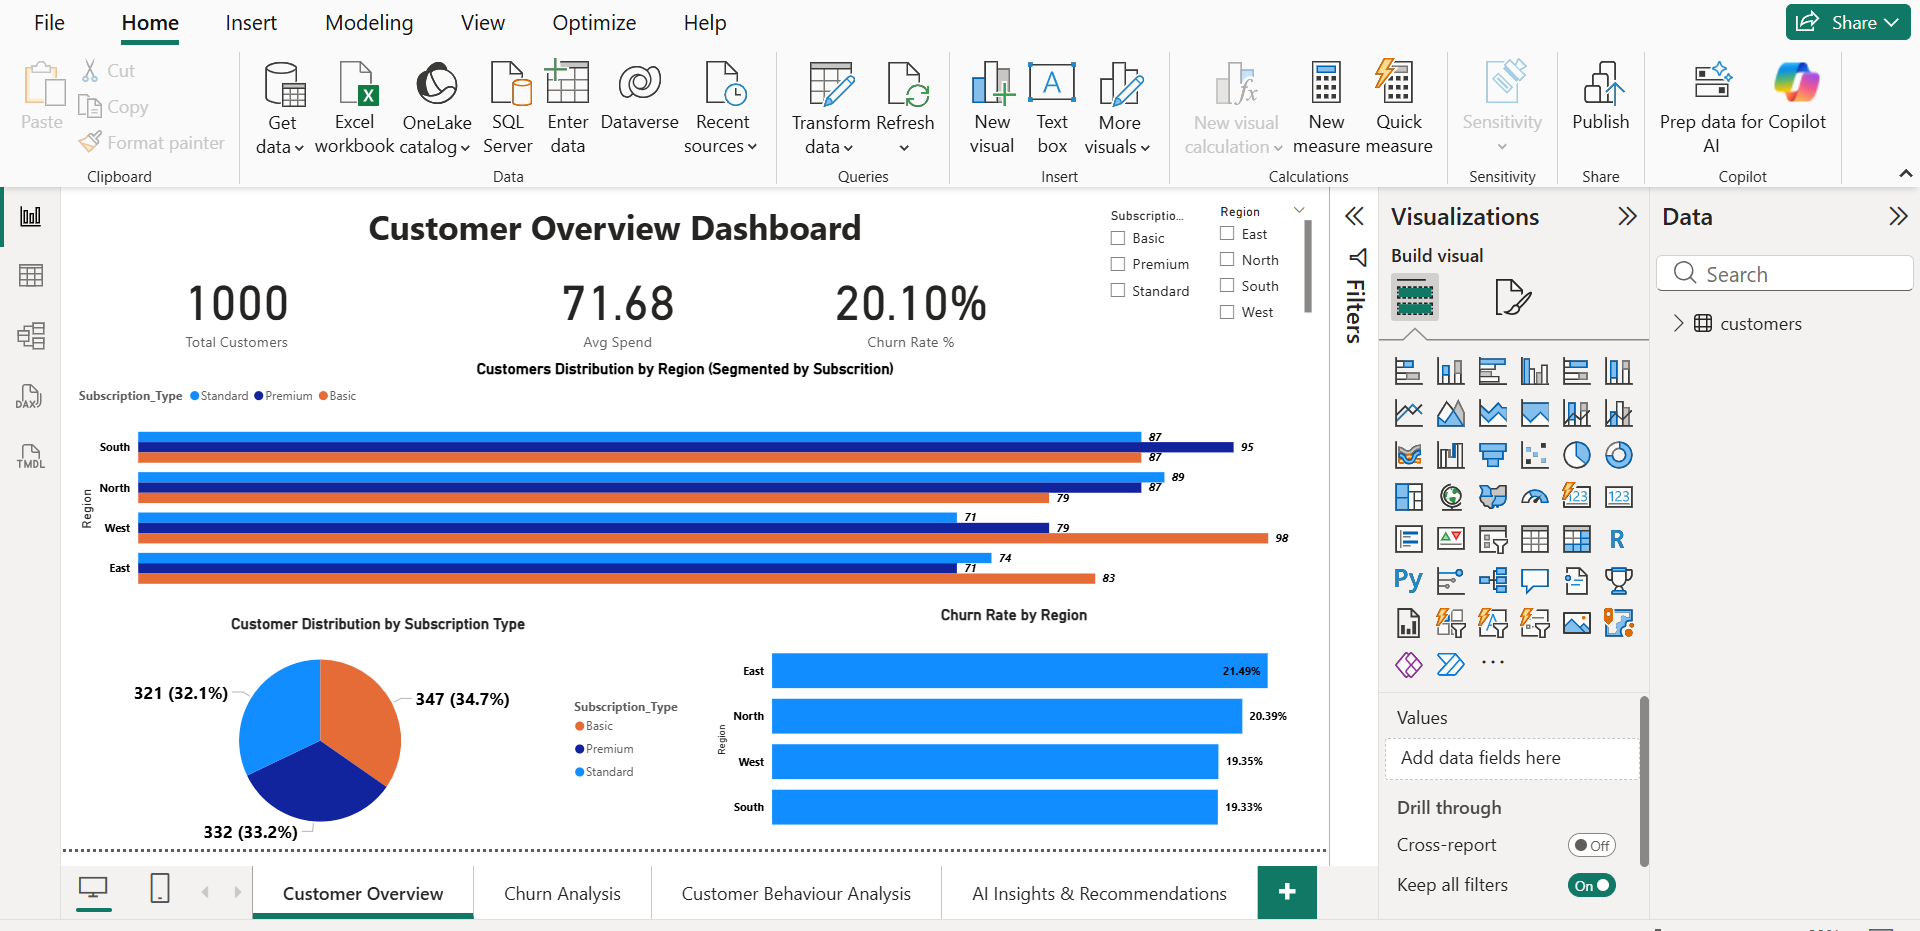

Layout of this report page (visuals, bound fields, positions):
{"tool":"powerbi","page":{"name":"Customer Overview","canvas":[1400,731],"ordinal":0},"visuals":[{"type":"card","fields":{"Values":["customers.Total Customers"]},"box":[82.8,72.9,221.9,117.6],"z":0},{"type":"card","fields":{"Values":["customers.Churn Rate %"]},"box":[838,72.9,200.4,117.6],"z":1000},{"type":"card","fields":{"Values":["customers.Avg Spend"]},"box":[510.1,72.9,208.7,117.6],"z":2000},{"type":"clusteredBarChart","title":"Customers Distribution by Region (Segmented by Subscrition)","fields":{"Category":["customers.Region"],"Series":["customers.Subscription_Type"],"Y":["CountNonNull(customers.Customer_ID)"]},"box":[14.9,190.5,1348.1,271.6],"z":3000},{"type":"pieChart","title":"Customer Distribution by Subscription Type","fields":{"Category":["customers.Subscription_Type"],"Y":["CountNonNull(customers.Customer_ID)"]},"box":[0,472,700.6,258.4],"z":4000},{"type":"textbox","box":[119.2,13.2,985.4,59.6],"z":5000},{"type":"clusteredBarChart","title":"Churn Rate by Region","fields":{"Category":["customers.Region"],"Y":["customers.Churn Rate %"]},"box":[718.8,462.1,667.4,268.3],"z":6000},{"type":"slicer","fields":{"Values":["customers.Region"]},"box":[1267,13.2,119.2,142.4],"z":7000},{"type":"slicer","fields":{"Values":["customers.Subscription_Type"]},"box":[1146.1,18.2,120.9,115.9],"z":8000}]}

Visuals, with their boxes on the page's 1400x731 design canvas (x1, y1, x2, y2). These are canvas units, not pixel positions in the 1920x931 screenshot, which may show the page scaled, cropped or inside an application window:
card - customers.Total Customers: left=83, top=73, right=305, bottom=190
card - customers.Churn Rate %: left=838, top=73, right=1038, bottom=190
card - customers.Avg Spend: left=510, top=73, right=719, bottom=190
"Customers Distribution by Region (Segmented by Subscrition)" clusteredBarChart: left=15, top=190, right=1363, bottom=462
"Customer Distribution by Subscription Type" pieChart: left=0, top=472, right=701, bottom=730
textbox: left=119, top=13, right=1105, bottom=73
"Churn Rate by Region" clusteredBarChart: left=719, top=462, right=1386, bottom=730
slicer - customers.Region: left=1267, top=13, right=1386, bottom=156
slicer - customers.Subscription_Type: left=1146, top=18, right=1267, bottom=134
